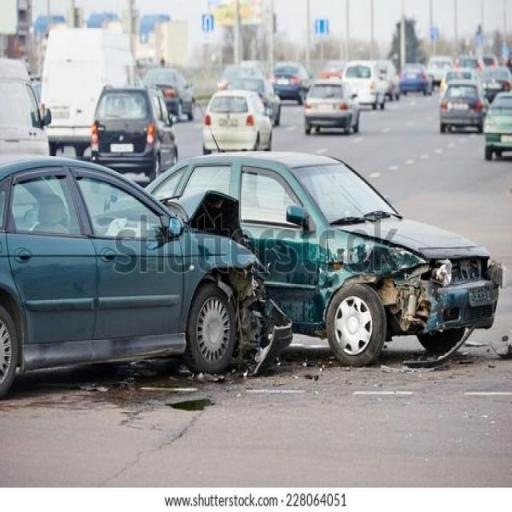小汽车: (90, 84, 176, 174), (201, 90, 273, 154), (304, 80, 363, 132), (440, 88, 484, 134)
小汽车撞小汽车: (2, 150, 499, 386)
